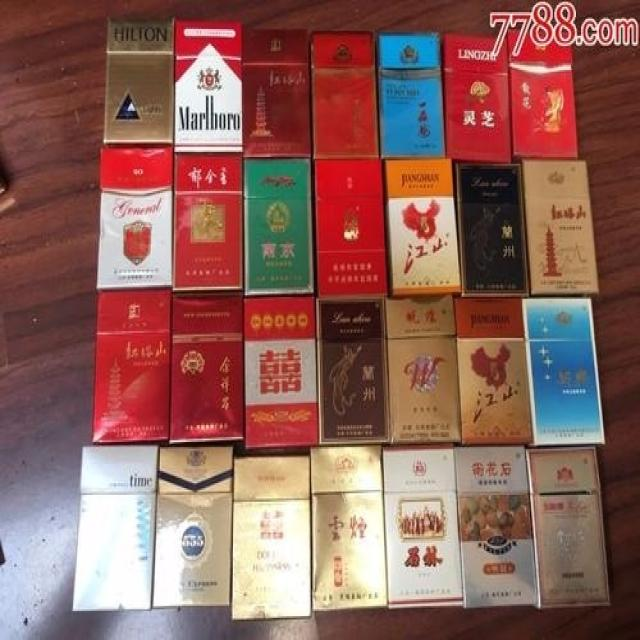box: (72, 445, 159, 611), (456, 444, 539, 611), (383, 444, 465, 611), (152, 445, 232, 608), (232, 456, 311, 620), (312, 445, 389, 613), (530, 447, 609, 608), (93, 288, 172, 442), (241, 294, 319, 449), (453, 299, 534, 445), (524, 299, 605, 445), (166, 292, 243, 442), (387, 294, 462, 445), (451, 155, 530, 295), (97, 147, 174, 290), (316, 295, 389, 445), (383, 155, 461, 295), (311, 157, 389, 294), (521, 159, 599, 295), (243, 155, 315, 295), (508, 26, 579, 164), (173, 154, 243, 290), (440, 32, 512, 164), (172, 19, 243, 152), (105, 17, 173, 145), (310, 31, 378, 159), (376, 32, 445, 157), (243, 29, 311, 155)
